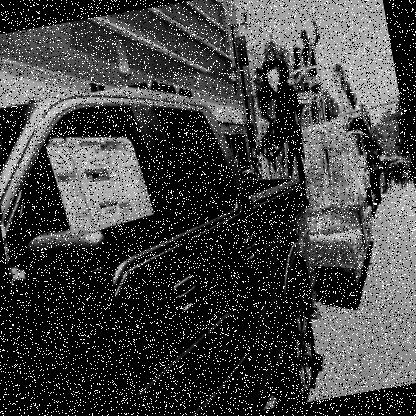Car: (0, 59, 336, 415)
